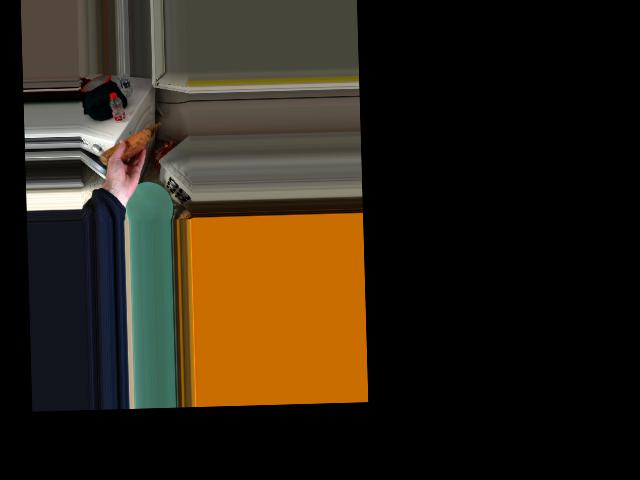sweet_potato: (112, 127, 147, 161)
